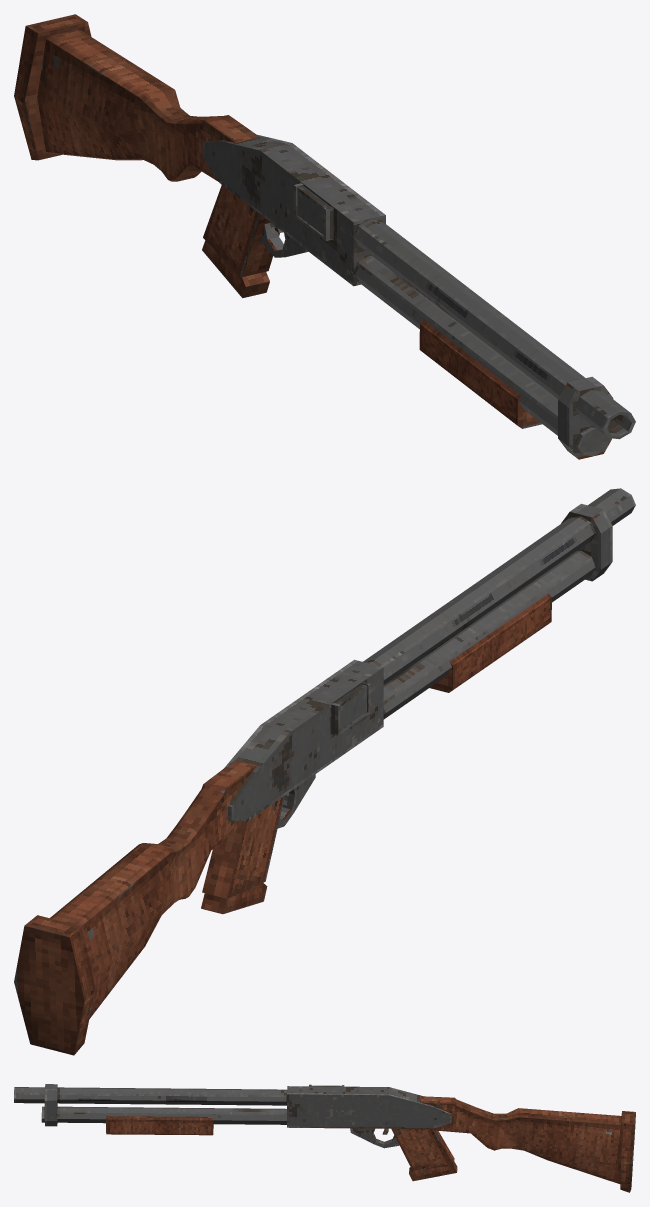
The model's file is new_shotgun.glb.
The picture shows the model from 3 angles, top to bottom: view 1: azimuth 30°, elevation 25°; view 2: azimuth 150°, elevation 25°; view 3: azimuth 270°, elevation 25°; orthographic projection. The views are drawn at different scales.
Visible parts, largest first — view 1: Shotgun, Shotgun-Detach; view 2: Shotgun, Shotgun-Detach; view 3: Shotgun, Shotgun-Detach.
Boxes of the visible parts, x1=… form: Shotgun: x1=14, y1=14, x2=635, y2=459; Shotgun-Detach: x1=419, y1=319, x2=542, y2=428; Shotgun: x1=14, y1=488, x2=635, y2=1055; Shotgun-Detach: x1=430, y1=593, x2=551, y2=692; Shotgun: x1=14, y1=1084, x2=635, y2=1192; Shotgun-Detach: x1=106, y1=1116, x2=213, y2=1135.
Size of the model in its own units: 0.1103 by 0.2316 by 1.39.
Materials: 1 (1 with a texture image).
